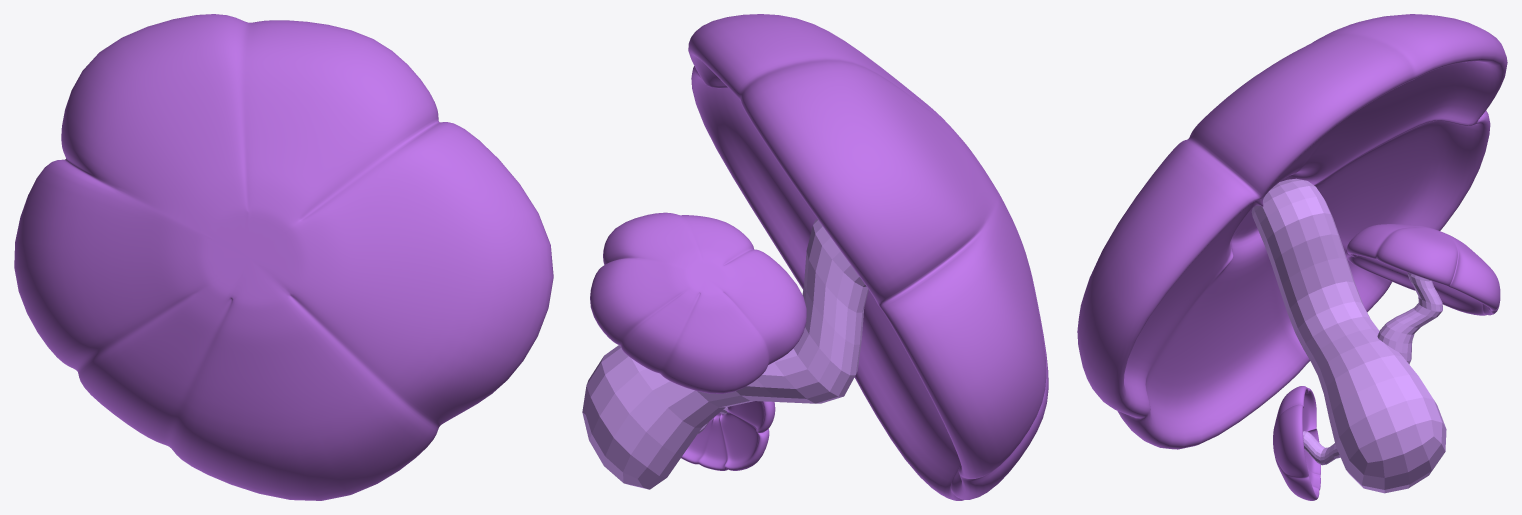
File: treev3.fbx
3 views of the same model, side by side, from view 1: azimuth 30°, elevation 25°; view 2: azimuth 150°, elevation 25°; view 3: azimuth 270°, elevation 25° (orthographic). The views are drawn at different scales.
Visible parts, largest first — view 1: NormCap.001; view 2: NormCap.001; view 3: NormCap.001.
Part boxes in pixels (bbox=[...]): NormCap.001: bbox=[14, 14, 553, 500]; NormCap.001: bbox=[582, 14, 1048, 500]; NormCap.001: bbox=[1077, 14, 1507, 500].
Size of the model in its own units: 302442 by 298328 by 278223.
